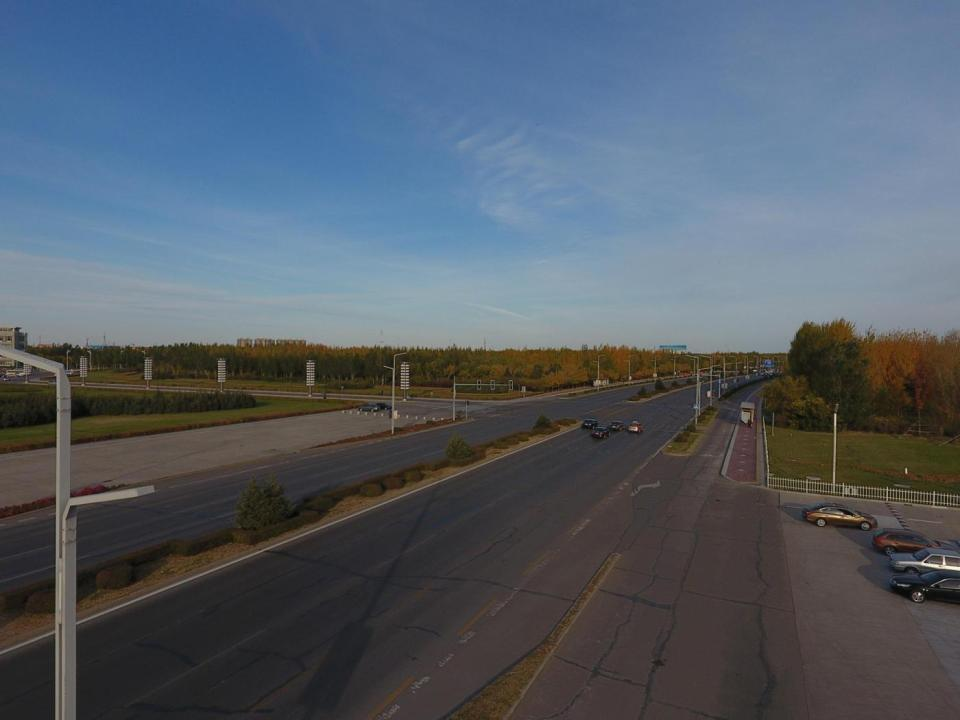bus: (6, 369, 30, 376)
car: (890, 568, 960, 604), (871, 528, 960, 556), (802, 502, 878, 530), (886, 547, 960, 571), (627, 420, 644, 434), (592, 426, 610, 439), (581, 419, 600, 430), (609, 420, 625, 432), (358, 404, 381, 411), (373, 402, 393, 410), (55, 370, 73, 376), (14, 372, 24, 377), (3, 375, 11, 381), (29, 368, 39, 372)
van: (49, 380, 58, 386), (6, 373, 16, 378)
